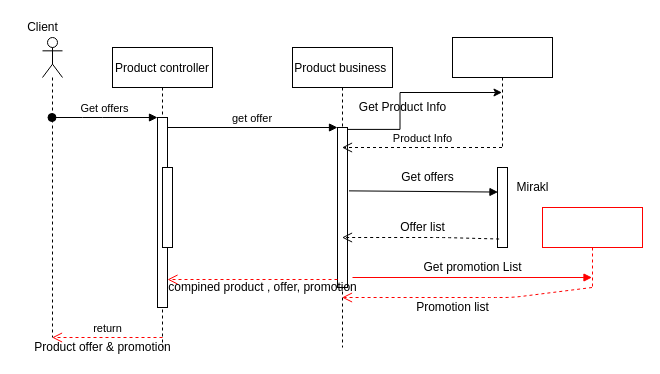
The diagram is 660 pixels wide and 374 high, and some of its shapes have lost their labels. Here are the shapes that lost their labels. From the top down, the centre of each, then its label:
the point at 502,92: Product Repo
the point at 592,247: Promotion Repo
